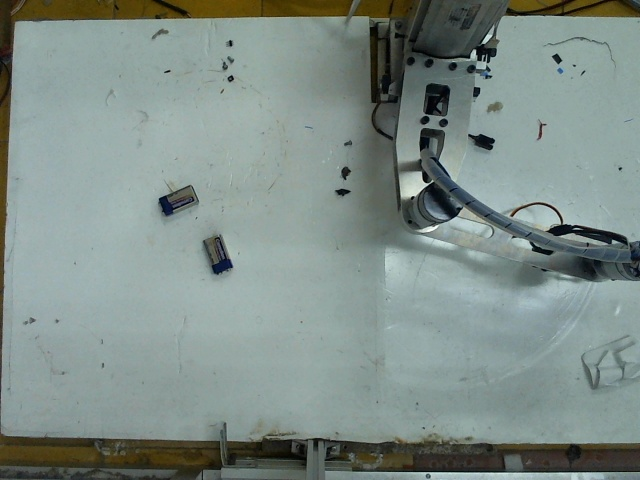battery: (196, 228, 237, 274), (157, 181, 194, 213)
